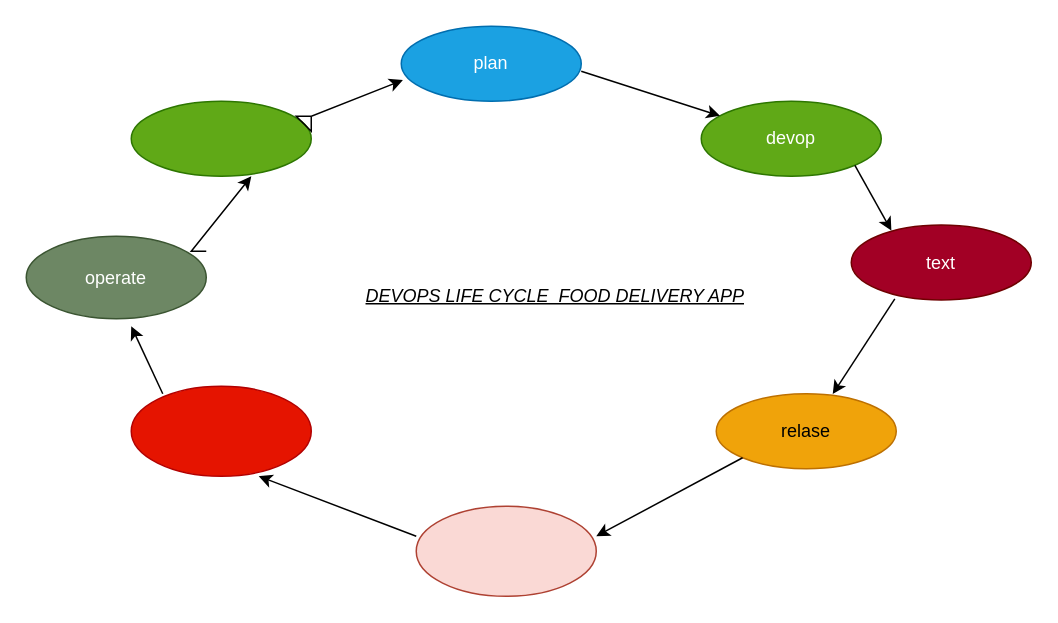
Some shapes in this 1058 by 623 pixel diagram are drawn without their labels. Each missing label, with the centre of its shape:
build: the point at 220,430
deploy: the point at 505,550
monitar: the point at 220,138
